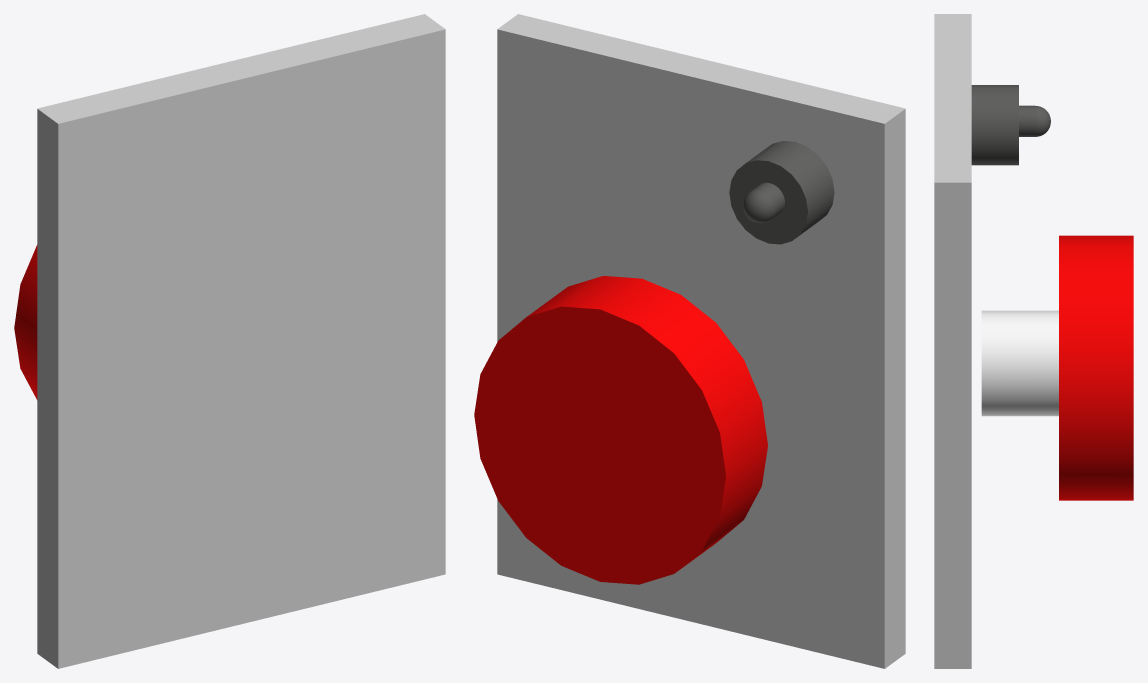
File: Button.fbx
3 views of the same model, side by side, from view 1: azimuth 30°, elevation 25°; view 2: azimuth 150°, elevation 25°; view 3: azimuth 270°, elevation 25° (orthographic). The views are drawn at different scales.
Visible parts, largest first — view 1: Button_Housing, Button_1; view 2: Button_Housing, Button_1, Dock, Led; view 3: Button_Housing, Button_1, Trigger, Dock, Led.
Part boxes in pixels (x1,y1,x2,y2): Button_Housing: (37,14,445,668); Button_1: (14,245,37,399); Button_Housing: (497,14,905,668); Button_1: (474,276,767,584); Dock: (729,141,834,244); Led: (743,182,784,223); Button_Housing: (934,14,971,668); Button_1: (1059,235,1133,500); Trigger: (981,310,1058,416); Dock: (971,85,1018,165); Led: (1019,105,1050,136).
Bounding box in the file's own units: 32 × 43 × 15.99.
